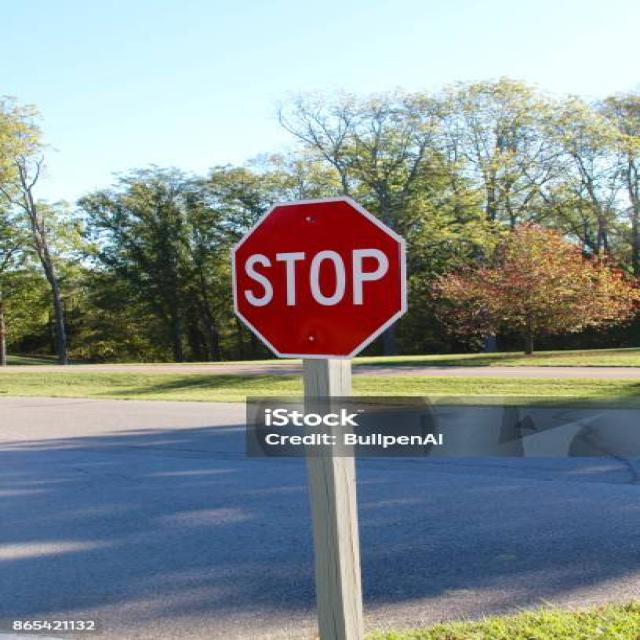STOP: (232, 198, 405, 357)
